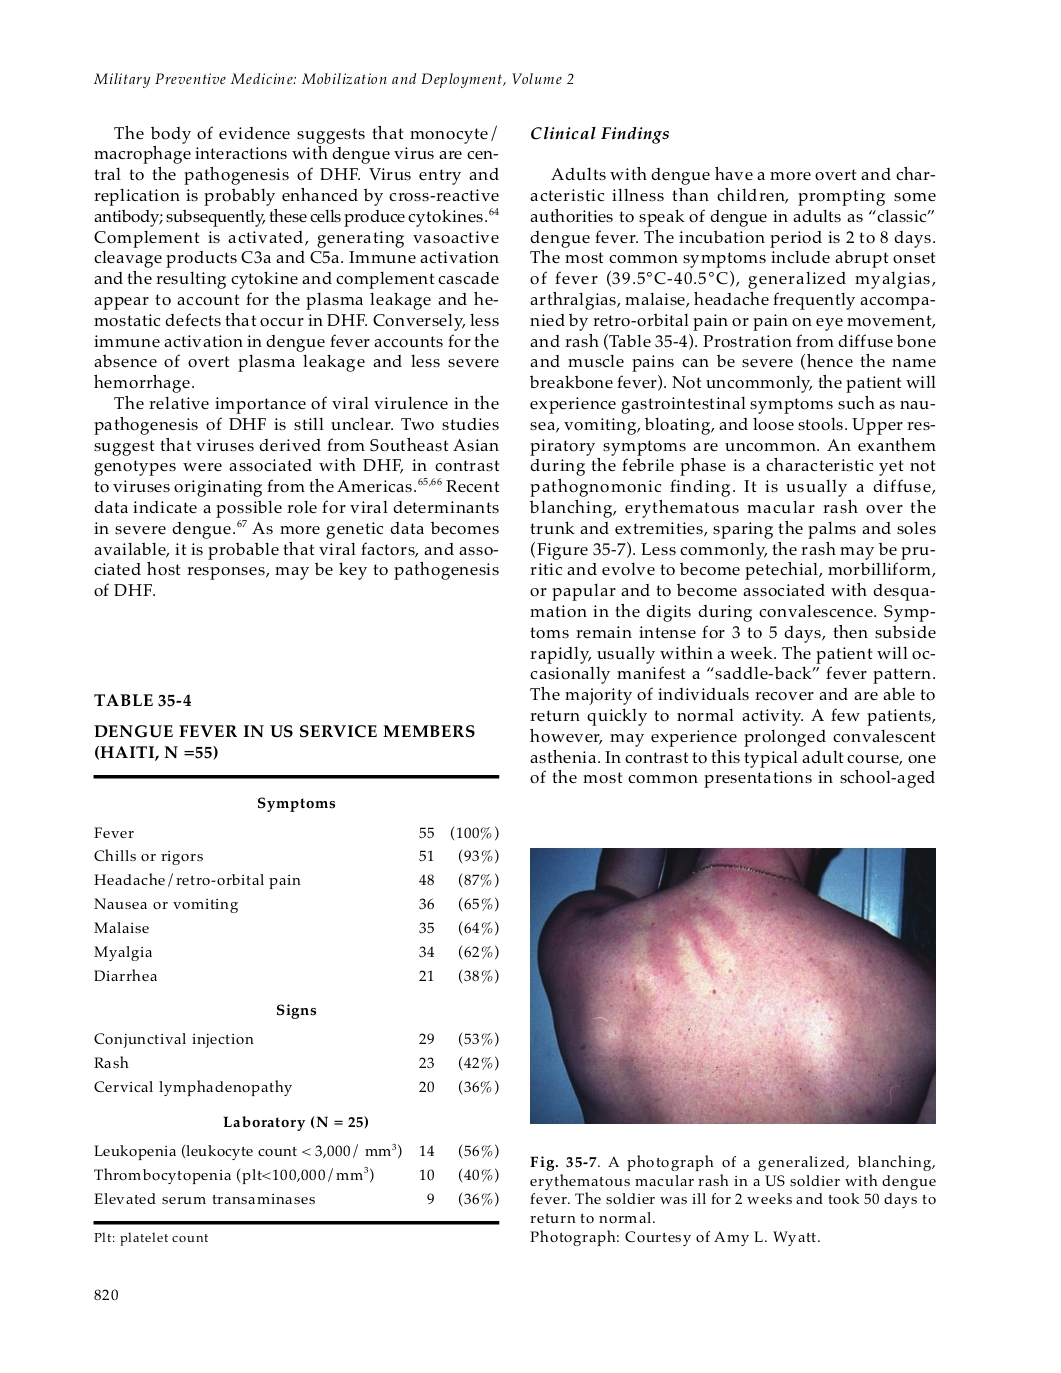Table: (93, 775, 499, 1224)
figure: (530, 847, 935, 1124)
